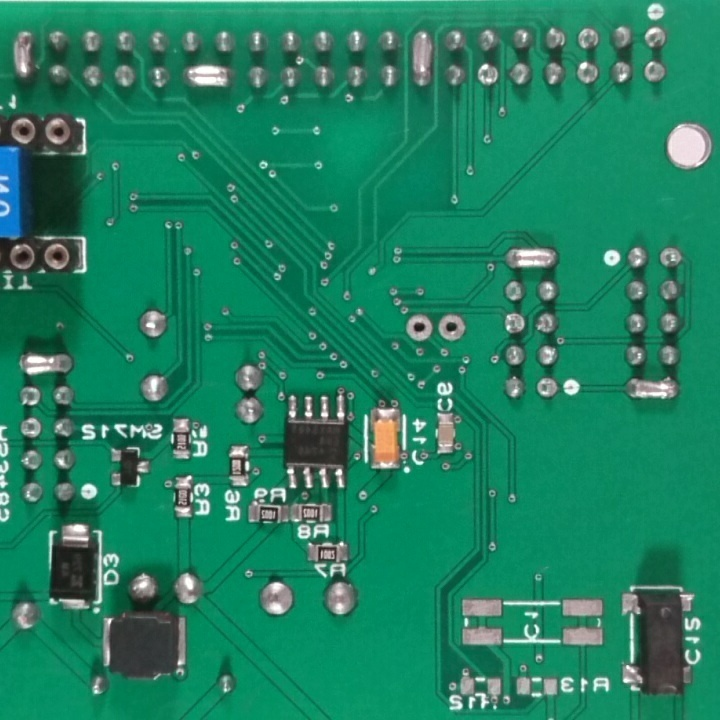F: (436, 311, 470, 347), (533, 373, 564, 405), (639, 23, 670, 52), (404, 313, 433, 344), (656, 244, 685, 272), (499, 309, 529, 336), (474, 62, 502, 90), (17, 414, 45, 442), (574, 24, 601, 52)
P: (622, 373, 684, 410), (408, 24, 439, 92), (499, 243, 563, 275), (16, 346, 78, 379), (181, 58, 235, 93), (9, 27, 35, 85)
